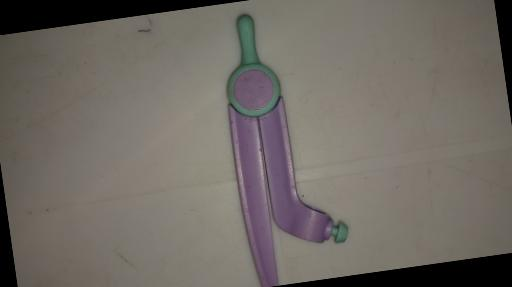Compass: (214, 2, 355, 287)
